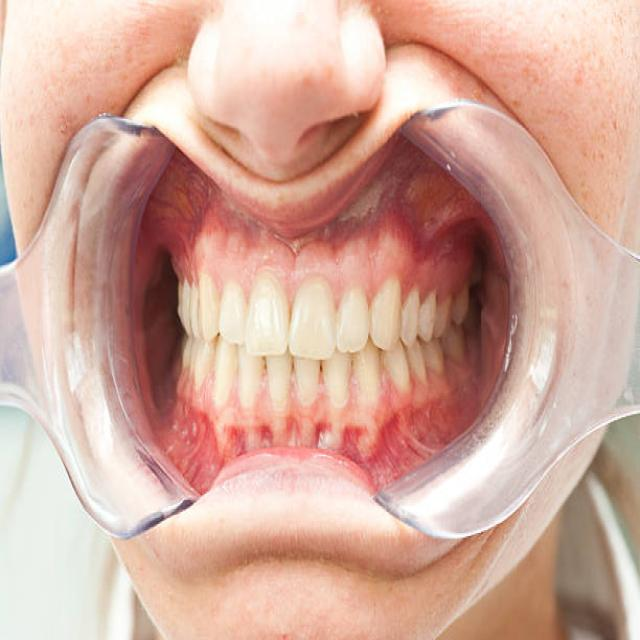Gingivitis: (390, 166, 449, 258), (167, 175, 202, 253), (377, 412, 414, 472), (184, 406, 220, 461), (416, 396, 438, 453), (343, 426, 365, 456), (226, 426, 247, 453), (313, 423, 333, 446), (258, 422, 276, 445)
